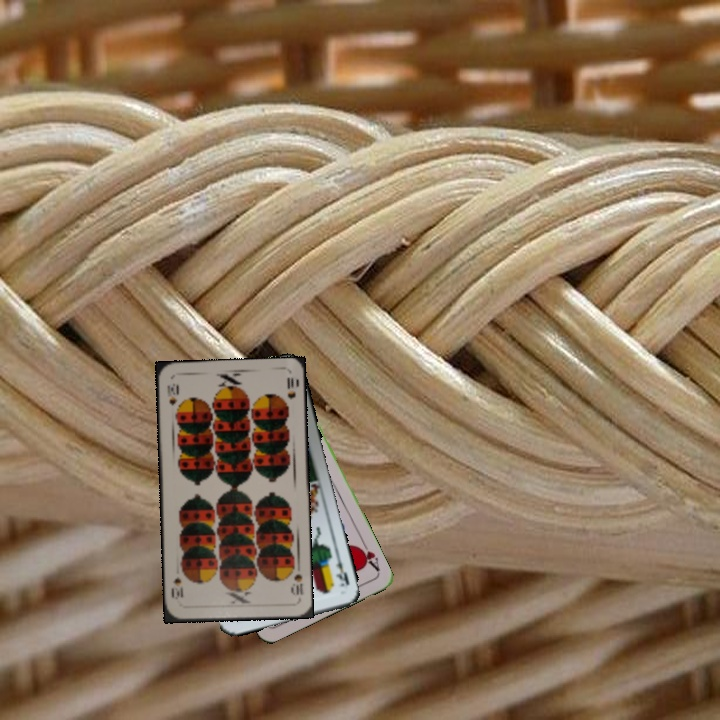EK: (332, 551, 352, 591)
HA: (353, 537, 382, 574)
S10: (287, 561, 306, 598), (163, 379, 180, 408)
